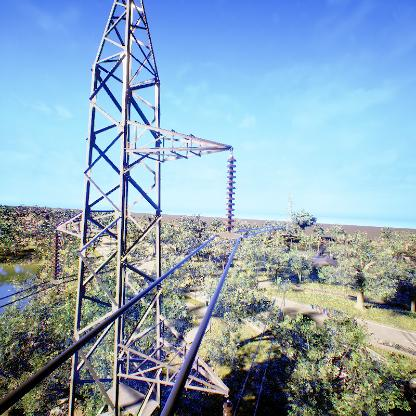insulator: (225, 156, 237, 234), (53, 232, 60, 282)
